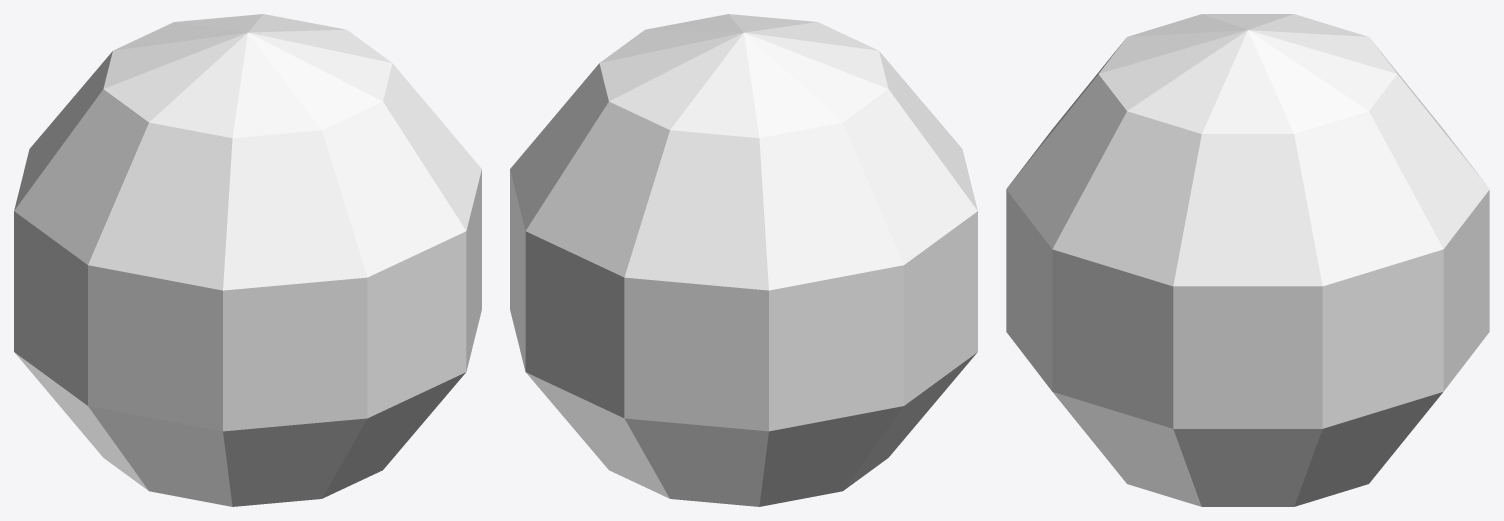
The model's file is cum.dae.
3 views of the same model, side by side, from view 1: azimuth 30°, elevation 25°; view 2: azimuth 150°, elevation 25°; view 3: azimuth 270°, elevation 25° (orthographic).
Visible parts, largest first — view 1: Sphere; view 2: Sphere; view 3: Sphere.
Boxes of the visible parts, left/top/right/bottom form: Sphere: left=14, top=14, right=481, bottom=506; Sphere: left=510, top=14, right=977, bottom=506; Sphere: left=1006, top=14, right=1489, bottom=506.
Bounding box in the file's own units: 1.81 × 1.9 × 2.
Materials: 1 (1 with a texture image).
